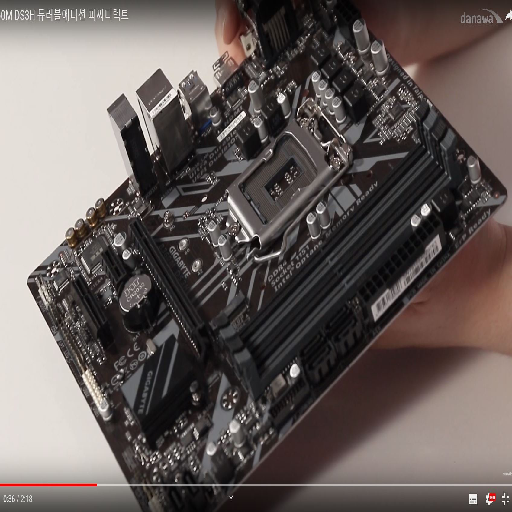CPU: (220, 118, 340, 246)
GPU: (124, 215, 217, 363)
MOTHERBOARD: (19, 8, 509, 494)
RAM: (206, 104, 465, 392)
SSD: (205, 295, 254, 338)
